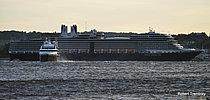Ship: (56, 22, 209, 65), (5, 36, 63, 66)
